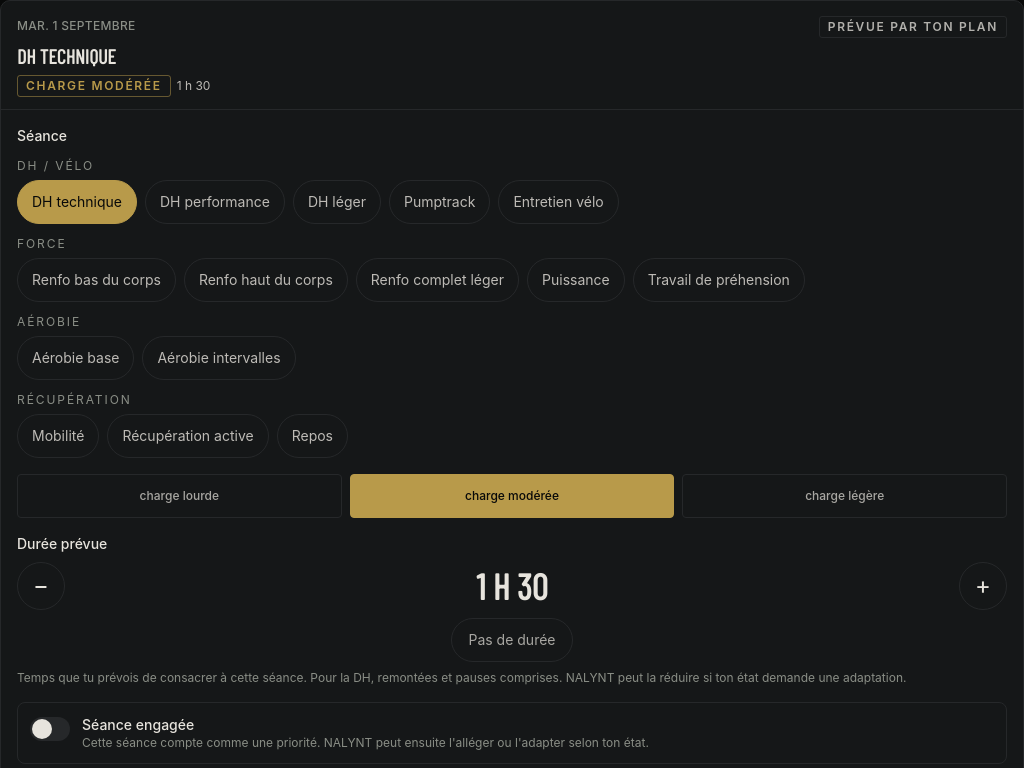
Test: PlanningDayCard — source, duration and commitment on the collapsed card › a saved edit shows the returned row's own source (manual)
This screenshot has width=1024, height=768.
Click the button "Repos": (312, 436) [277,414,348,458]
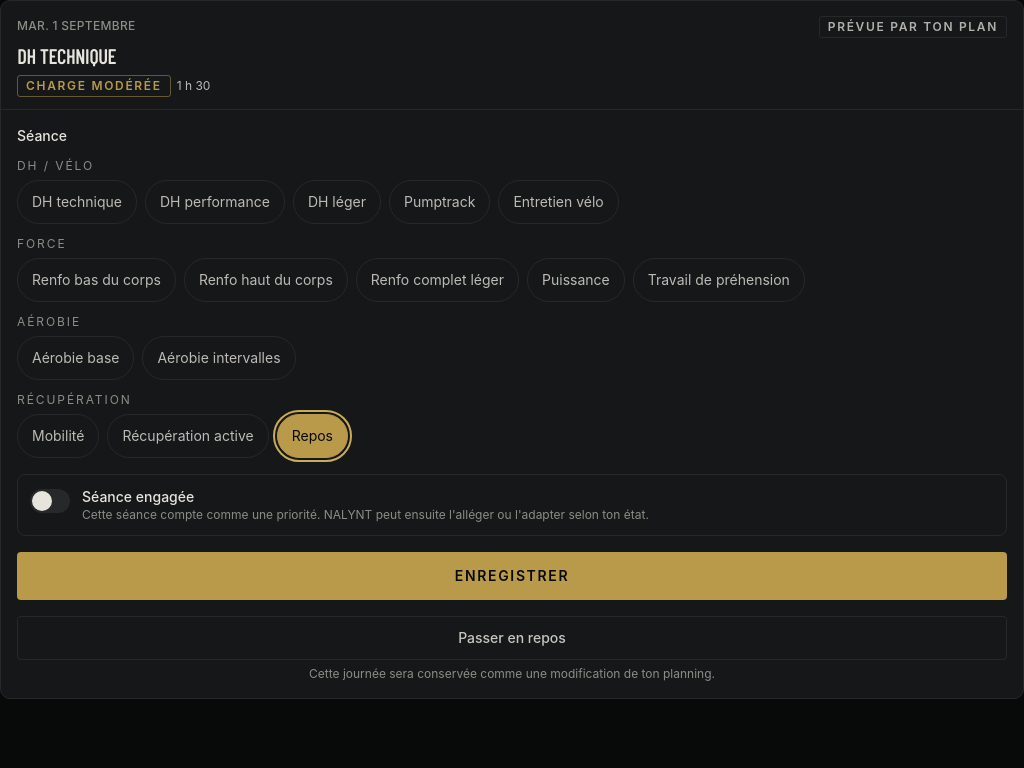
Click the button "Enregistrer": (512, 576) [17,552,1007,600]
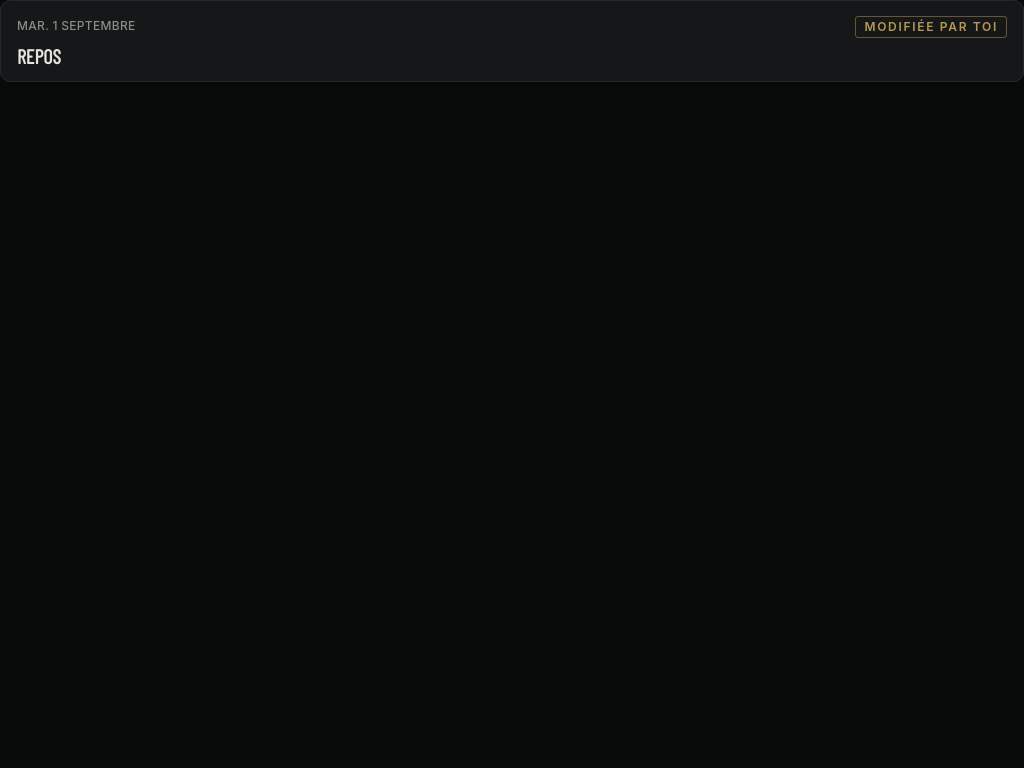
Now the text "Modifiée par toi" is shown, box [856,16,1007,38]
Now the button "Prévue par ton plan" is gone
